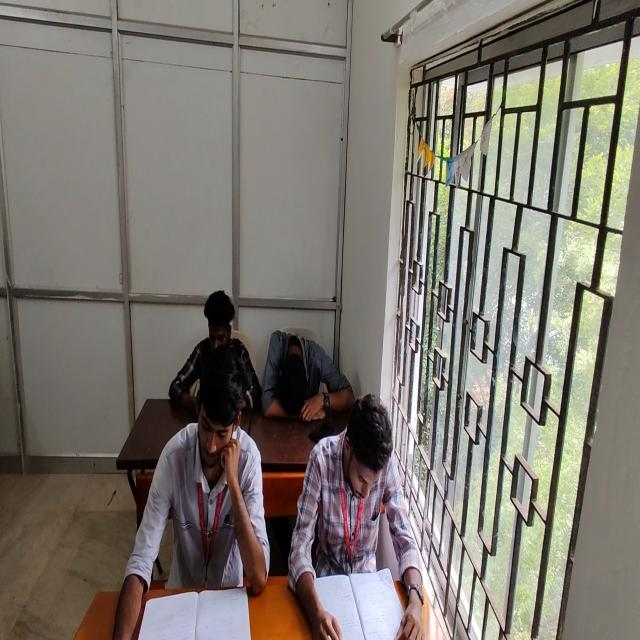reading: (103, 352, 288, 640), (282, 365, 447, 640)
sleeping: (257, 302, 380, 441)
using_mobile: (157, 270, 275, 438)
